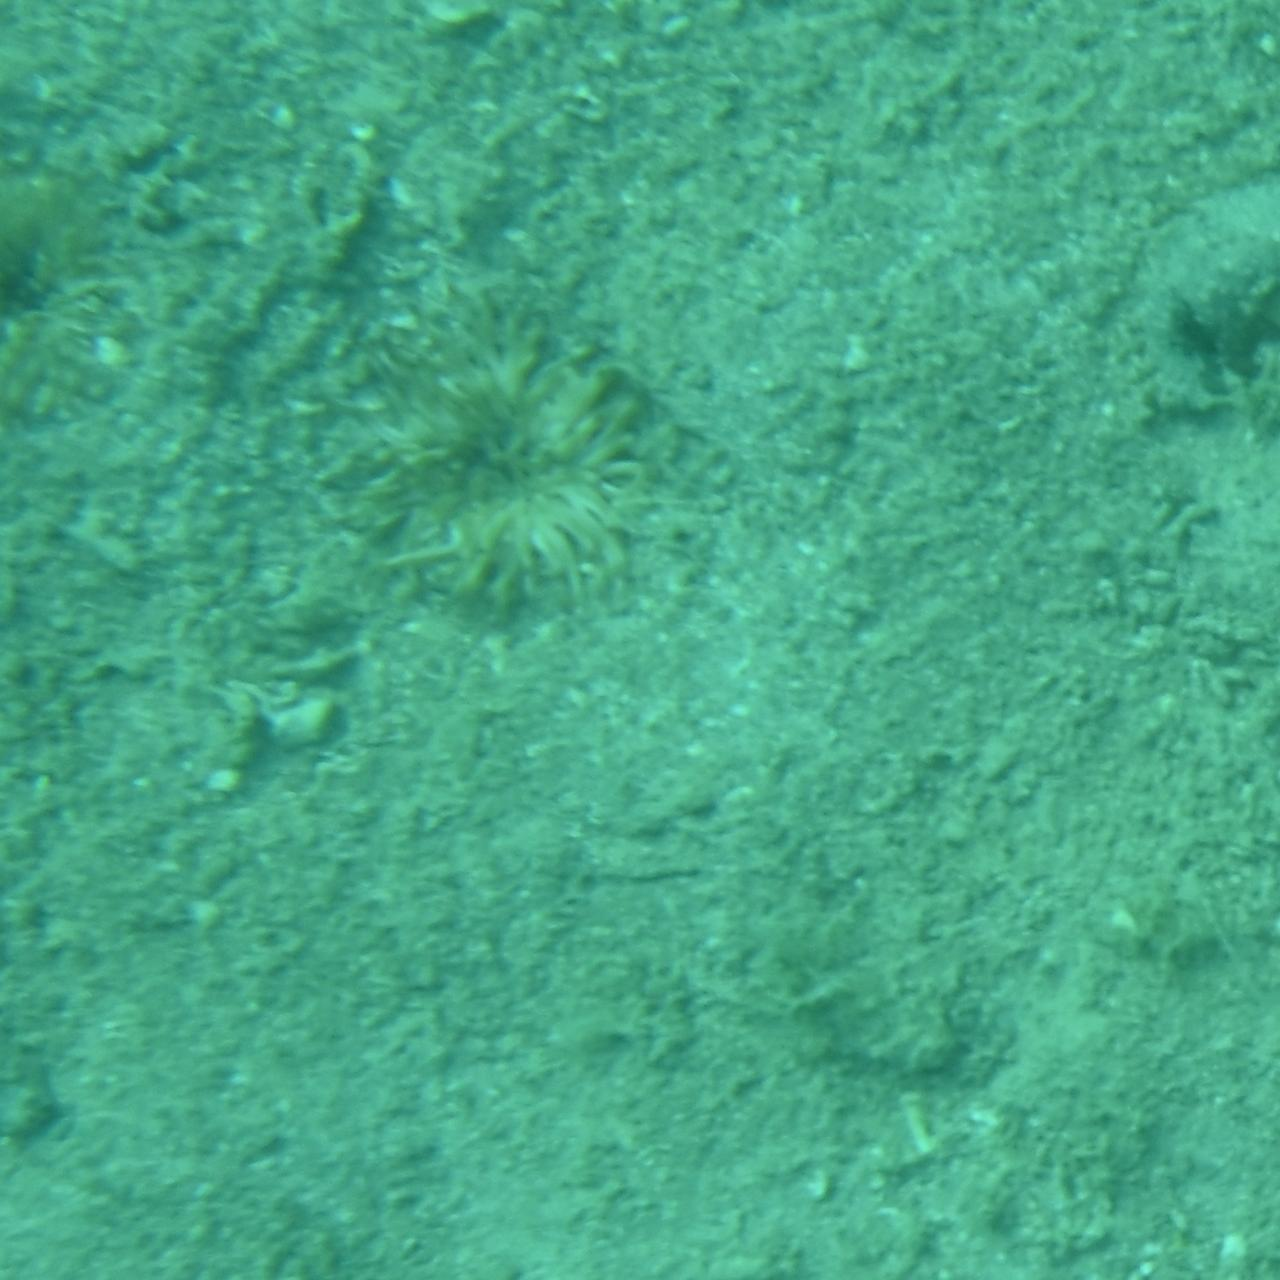Condylactis aurantiaca: (298, 265, 722, 622), (0, 154, 175, 418)
Holothuria tubulosa: (996, 181, 1280, 467), (0, 810, 210, 1178)
